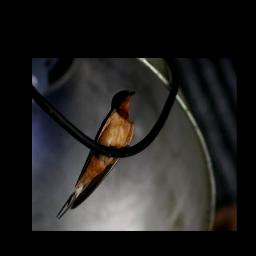Swallow: (52, 86, 139, 220)
